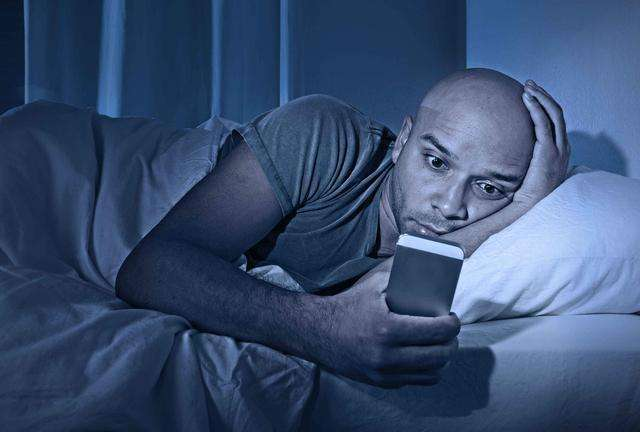reading: (308, 226, 467, 393)
